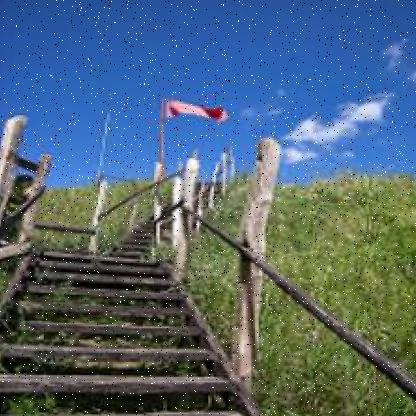stair_up: (20, 226, 216, 397)
